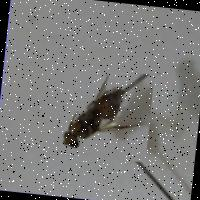Oriental-fruit-fly: (52, 64, 154, 161)
